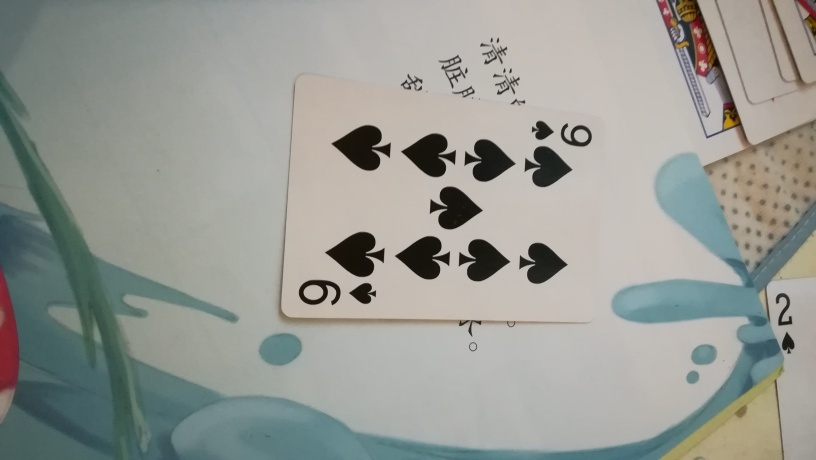ht 9: (278, 69, 607, 338)
